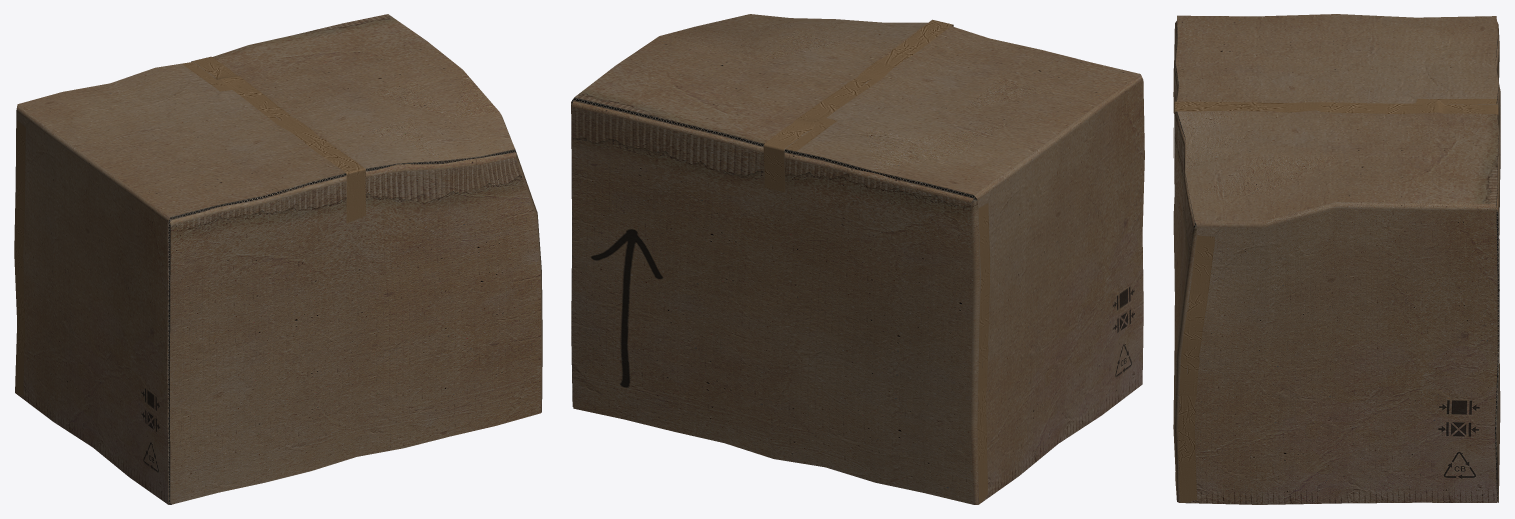
File: SM_CardboardA.FBX
The picture shows the model from 3 angles, left to right: view 1: azimuth 30°, elevation 25°; view 2: azimuth 150°, elevation 25°; view 3: azimuth 270°, elevation 25°; orthographic projection. The views are drawn at different scales.
Visible parts, largest first — view 1: SM_CardboardA_LOD0; view 2: SM_CardboardA_LOD0; view 3: SM_CardboardA_LOD0.
Boxes of the visible parts, x1,y1,x2,y2 form: SM_CardboardA_LOD0: [14, 14, 542, 504]; SM_CardboardA_LOD0: [571, 14, 1144, 504]; SM_CardboardA_LOD0: [1173, 14, 1500, 504].
Size of what is drawn, in the model's own units: 55.28 by 40.85 by 39.7.
